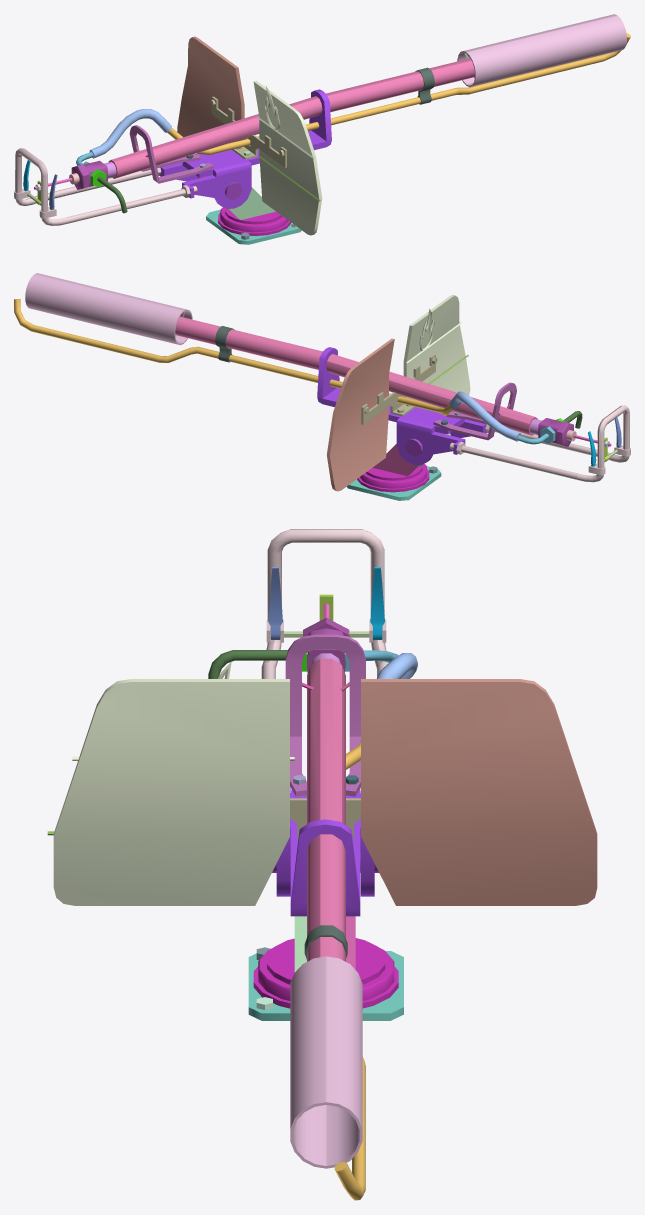
The picture shows the model from 3 angles, top to bottom: view 1: azimuth 30°, elevation 25°; view 2: azimuth 150°, elevation 25°; view 3: azimuth 270°, elevation 25°; orthographic projection. The views are drawn at different scales.
Parts seen in each view (by area): view 1: split_parent_4, split_parent_7, split_parent_20, Object_2.102, split_parent_10, split_parent_23, split_parent_27, Object_2.071, split_parent_11, split_parent_2, Object_2.119, Object_2.072 (+3 smaller); view 2: Object_2.102, split_parent_20, split_parent_7, split_parent_4, split_parent_10, split_parent_27, split_parent_23, Object_2.071, split_parent_2, split_parent_11, Object_2.119, Object_2.072 (+4 smaller); view 3: split_parent_4, Object_2.102, split_parent_20, split_parent_7, split_parent_10, split_parent_11, Object_2.071, split_parent_23, Object_2.072, split_parent_27, Object_2.127, Object_2.040 (+1 smaller).
Part boxes in pixels (x1,y1,x2,y2): split_parent_4: (253,80,322,235); split_parent_7: (108,58,474,178); split_parent_20: (457,14,626,87); Object_2.102: (177,36,244,142); split_parent_10: (160,89,331,208); split_parent_23: (14,148,197,225); split_parent_27: (167,33,630,154); Object_2.071: (218,207,291,235); split_parent_11: (129,125,213,183); split_parent_2: (210,96,286,167); Object_2.119: (89,109,171,158); Object_2.072: (206,209,301,244); Object_2.102: (327,338,394,491); split_parent_20: (25,273,192,345); split_parent_7: (175,316,537,435); split_parent_4: (403,295,470,399); split_parent_10: (317,347,486,465); split_parent_27: (14,299,453,415); split_parent_23: (449,405,630,482); Object_2.071: (357,463,429,492); split_parent_2: (361,354,437,424); split_parent_11: (433,382,516,440); Object_2.119: (449,391,520,441); Object_2.072: (346,466,441,500); split_parent_4: (53,661,294,905); Object_2.102: (361,679,597,905); split_parent_20: (290,956,362,1168); split_parent_7: (307,658,349,961); split_parent_10: (276,786,374,916); split_parent_11: (285,634,365,796); Object_2.071: (253,938,398,1008); split_parent_23: (261,529,388,678); Object_2.072: (248,951,403,1020); split_parent_27: (334,742,365,1200); Object_2.127: (208,650,287,678); Object_2.040: (303,617,349,672).
Bounding box in the file's own units: 1 × 0.2517 × 0.3971.
